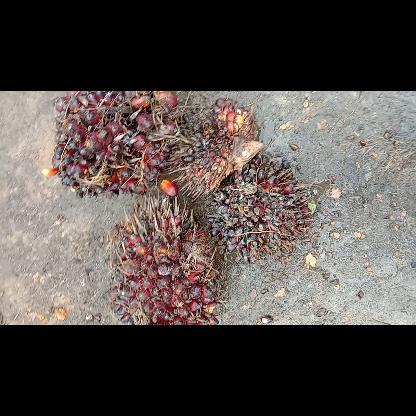Kurang masak: (44, 91, 178, 197)
TBS abnormal: (209, 154, 314, 262), (168, 98, 262, 198)
TBS masak: (110, 190, 218, 324)
